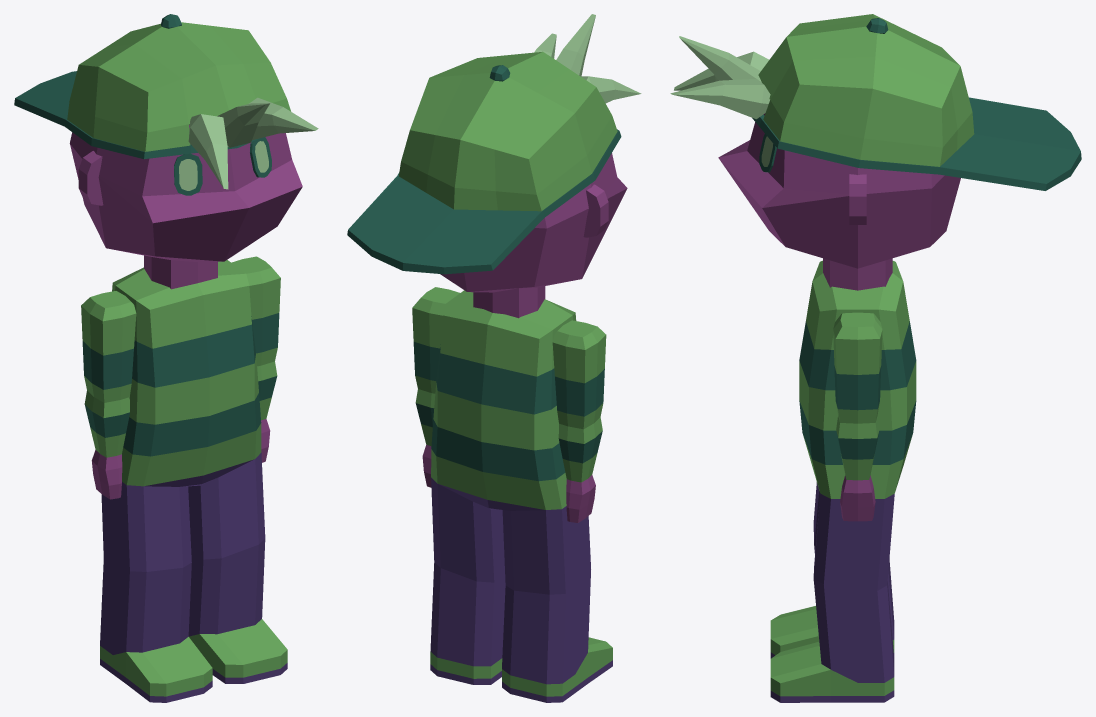
Rendered from KatsuBoi.glb.
The picture shows the model from 3 angles, left to right: view 1: azimuth 30°, elevation 25°; view 2: azimuth 150°, elevation 25°; view 3: azimuth 270°, elevation 25°; orthographic projection. The views are drawn at different scales.
Parts seen in each view (by area): view 1: Body, KBHat, KBHead, Arms, KBHair, KBEyes, Neck; view 2: Body, KBHat, Arms, KBHead, KBHair, Neck; view 3: KBHat, Body, KBHead, Arms, KBHair, Neck.
Part boxes in pixels (<box>): Body: <box>100,260,287,702</box>; KBHat: <box>14,14,290,159</box>; KBHead: <box>69,125,302,262</box>; Arms: <box>81,256,280,499</box>; KBHair: <box>188,97,318,189</box>; KBEyes: <box>174,137,271,195</box>; Neck: <box>144,255,217,289</box>; Body: <box>430,290,612,702</box>; KBHat: <box>347,51,621,274</box>; Arms: <box>412,287,606,522</box>; KBHead: <box>440,153,627,292</box>; KBHair: <box>534,14,641,103</box>; Neck: <box>473,286,545,318</box>; KBHat: <box>752,14,1081,190</box>; Body: <box>770,260,916,702</box>; KBHead: <box>718,113,960,268</box>; Arms: <box>833,312,882,521</box>; KBHair: <box>670,36,770,119</box>; Neck: <box>823,258,892,290</box>.
Bounding box in the file's own units: 2.88 × 8.93 × 5.12.
